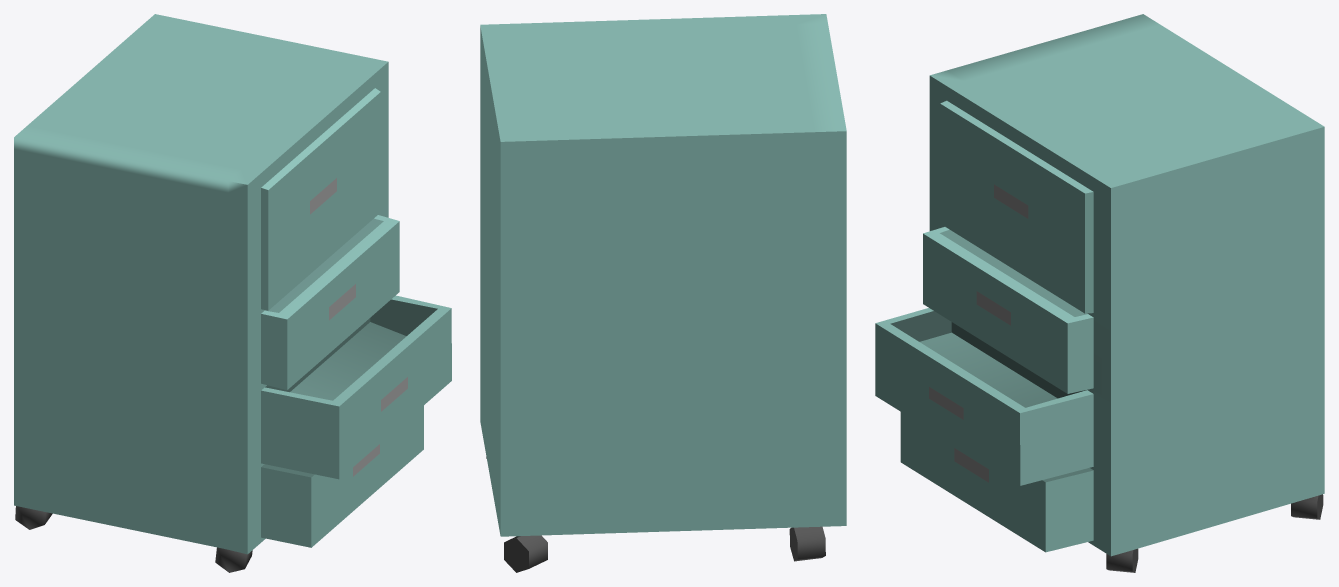
File: MSH_QuestObject_cabinet_04.fbx
The picture shows the model from 3 angles, left to right: view 1: azimuth 30°, elevation 25°; view 2: azimuth 150°, elevation 25°; view 3: azimuth 270°, elevation 25°; orthographic projection. The views are drawn at different scales.
Visible parts, largest first — view 1: MSH_QuestObject_cabinet_04; view 2: MSH_QuestObject_cabinet_04; view 3: MSH_QuestObject_cabinet_04.
Part boxes in pixels (box(x1,y1,x2,y2)): MSH_QuestObject_cabinet_04: box(14, 14, 451, 572); MSH_QuestObject_cabinet_04: box(480, 14, 846, 572); MSH_QuestObject_cabinet_04: box(875, 14, 1324, 572).
Bounding box in the file's own units: 1.57 × 1.6 × 1.63.
